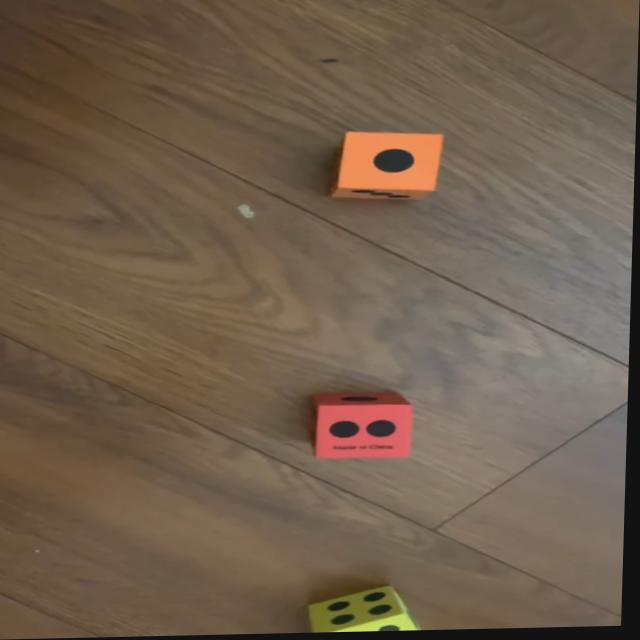red_block: (315, 395, 415, 463)
